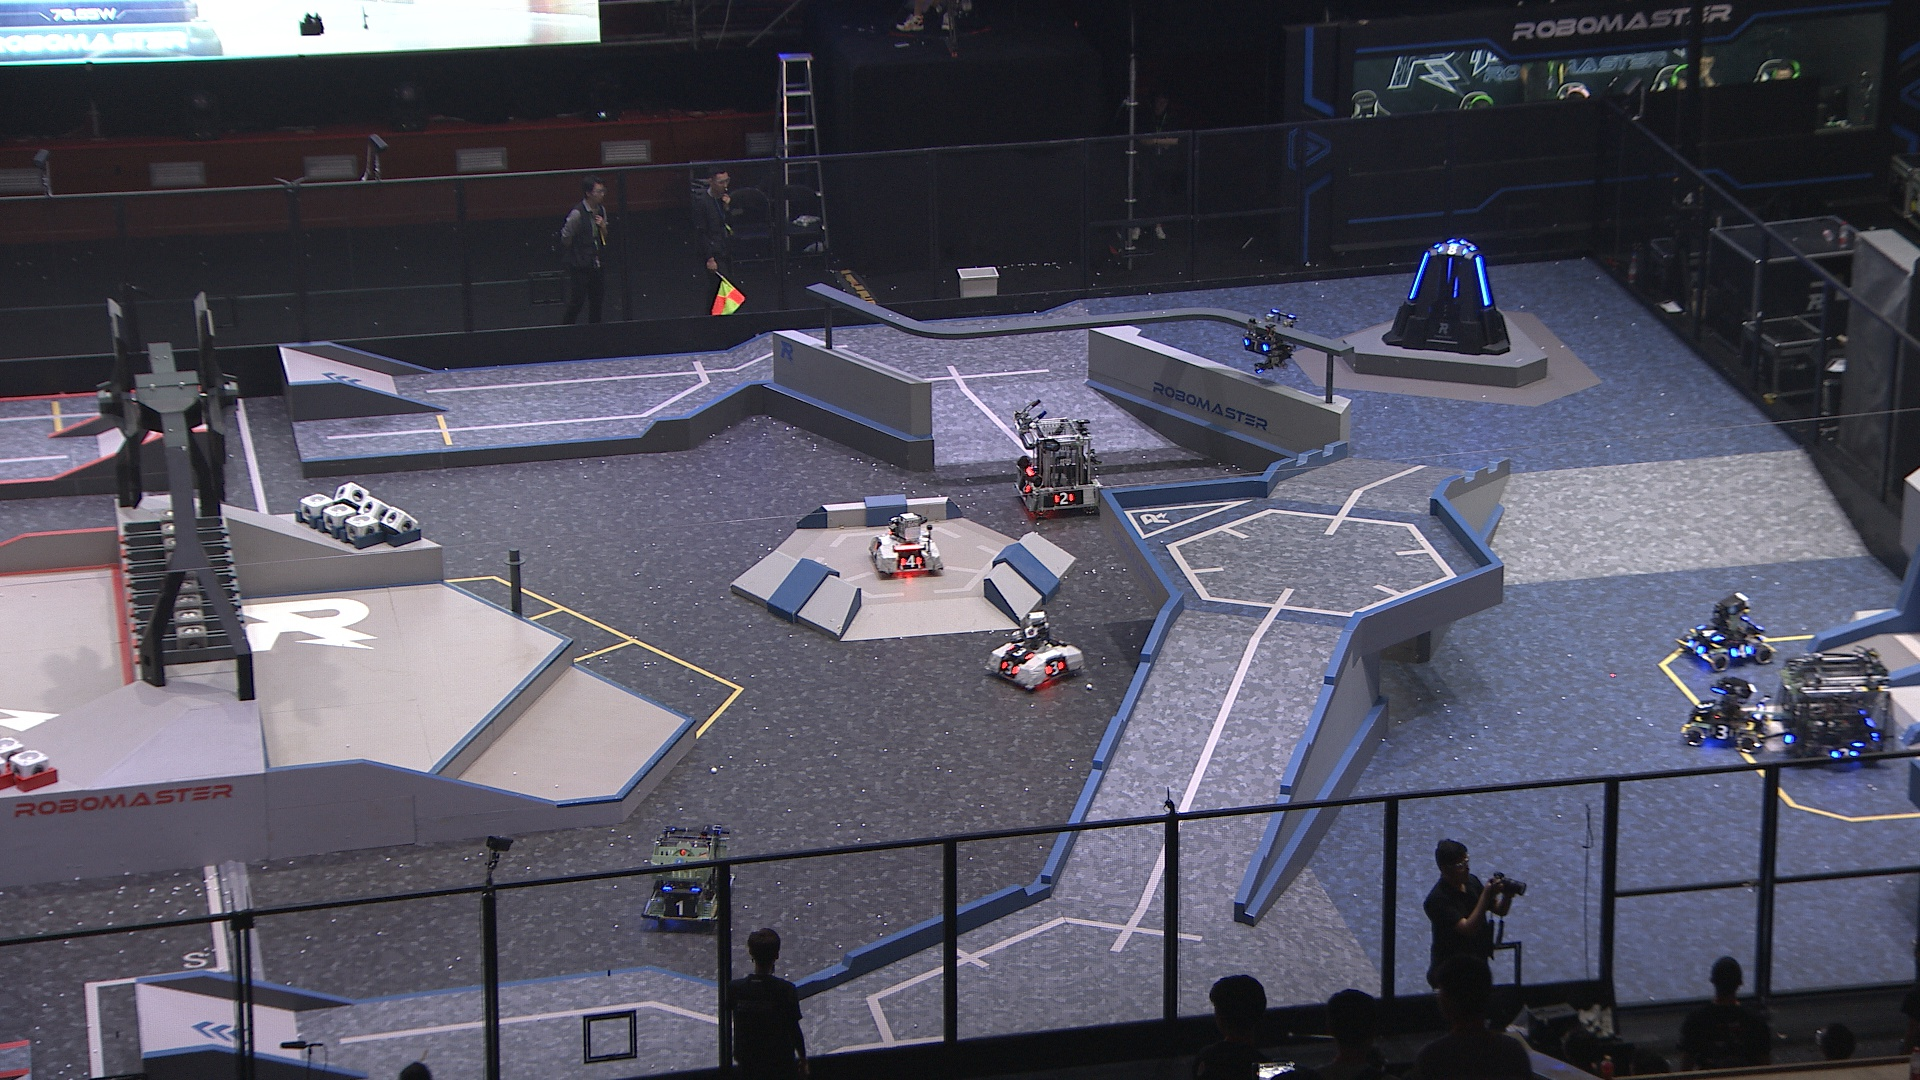armor: (1406, 251, 1429, 301), (1472, 255, 1493, 309), (665, 895, 699, 916), (1695, 622, 1726, 641), (1436, 243, 1470, 258), (1240, 338, 1269, 356), (1712, 723, 1735, 744), (1832, 746, 1859, 764), (1730, 642, 1756, 659), (1007, 644, 1031, 662), (898, 553, 923, 570), (1051, 491, 1077, 506), (1685, 637, 1708, 655), (1044, 659, 1068, 676), (1443, 257, 1456, 286), (998, 661, 1019, 678), (1695, 698, 1716, 713), (1021, 479, 1034, 498)
base: (1377, 239, 1513, 356)
car: (1778, 654, 1898, 773), (640, 823, 737, 927), (1011, 413, 1101, 522), (982, 611, 1084, 694), (1673, 593, 1775, 670), (1683, 675, 1770, 756), (869, 513, 945, 578)
watcher: (1238, 309, 1302, 375)
